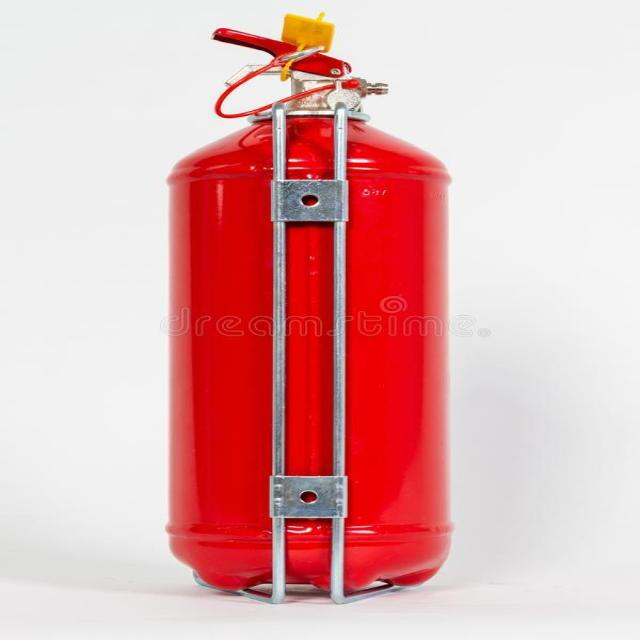fire_extinguisher: (153, 7, 466, 606)
